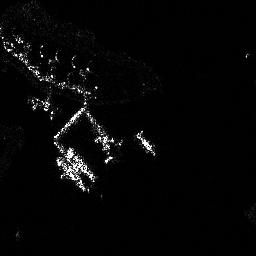ship: (55, 157, 88, 191), (26, 98, 59, 115), (136, 131, 156, 157)
